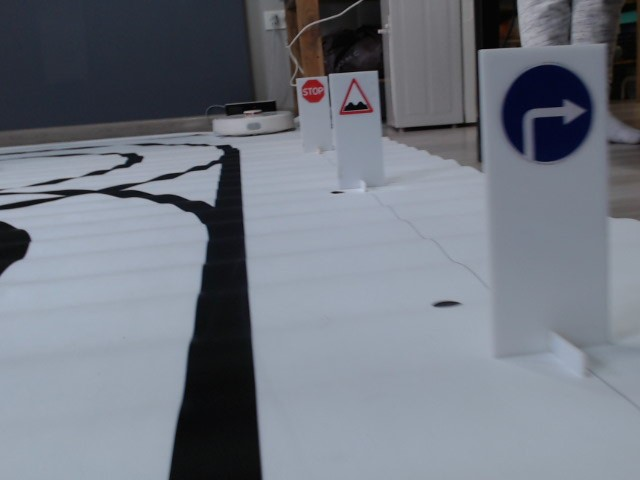Nerov: (338, 77, 374, 115)
Right: (499, 60, 595, 166)
Stop: (300, 79, 326, 102)
